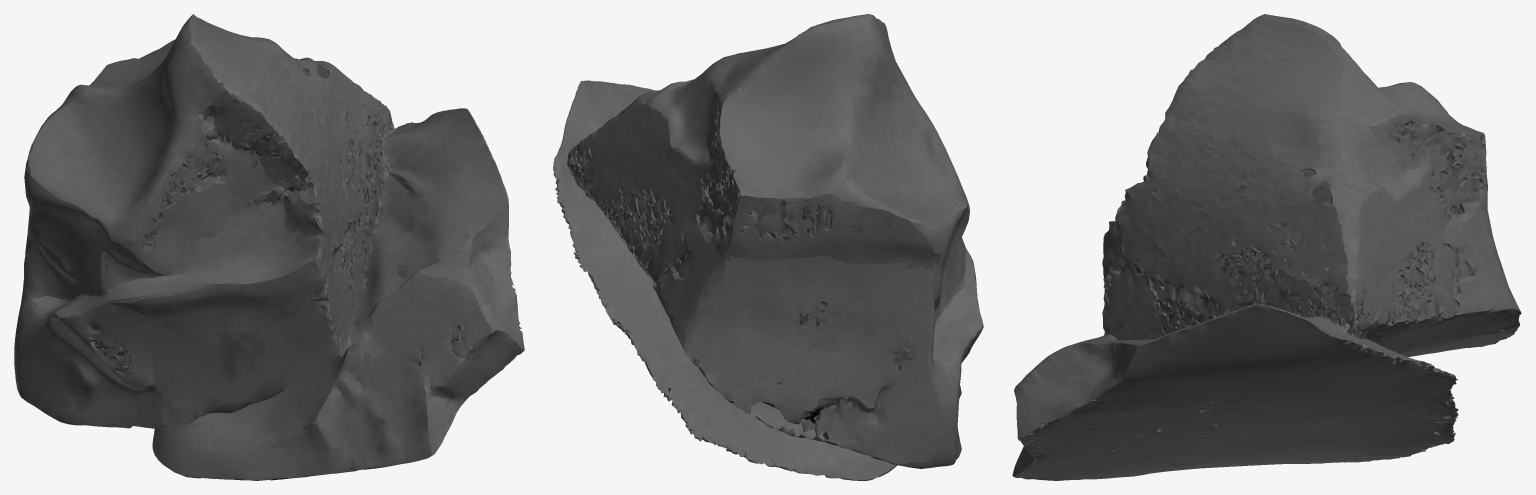
3 renders of one model, left to right at view 1: azimuth 30°, elevation 25°; view 2: azimuth 150°, elevation 25°; view 3: azimuth 270°, elevation 25°, orthographic. The views are drawn at different scales.
Parts seen in each view (by area): view 1: world; view 2: world; view 3: world.
Boxes of the visible parts, bbox=[...] form: world: bbox=[14, 14, 524, 480]; world: bbox=[553, 14, 983, 480]; world: bbox=[1012, 14, 1521, 480].
Bounding box in the file's own units: 0.12 × 0.1204 × 0.1206.
1 material, 1 textured.
